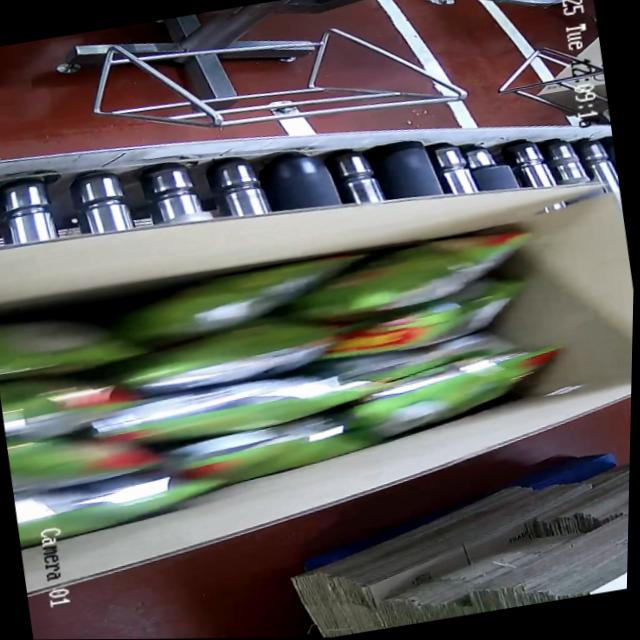YOGURT_HERB: (0, 217, 570, 550)
